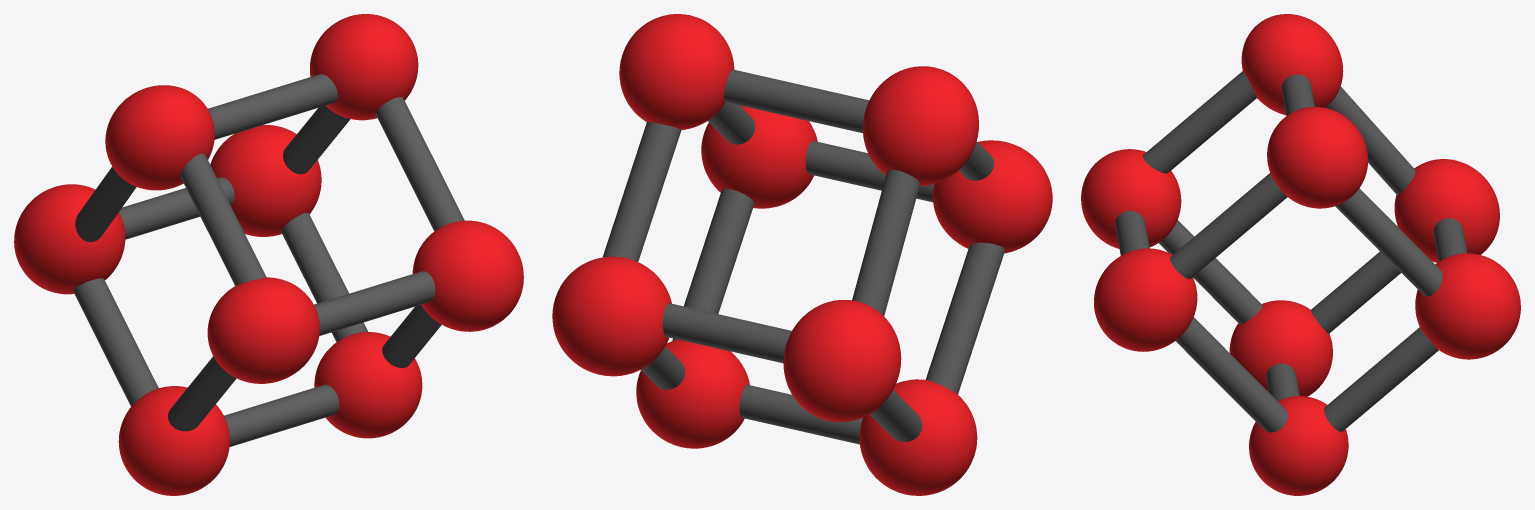
Rendered from SIMPLE.fbx.
The picture shows the model from 3 angles, left to right: view 1: azimuth 30°, elevation 25°; view 2: azimuth 150°, elevation 25°; view 3: azimuth 270°, elevation 25°; orthographic projection. The views are drawn at different scales.
Visible parts, largest first — view 1: node_id395, node_id392, node_id393, node_id391, node_id394, node_id390, node_id388, node_id389, node_id274, node_id276, node_id398, node_id273 (+8 smaller); view 2: node_id390, node_id388, node_id393, node_id394, node_id395, node_id391, node_id389, node_id392, node_id385, node_id397, node_id396, node_id273 (+8 smaller); view 3: node_id388, node_id392, node_id394, node_id390, node_id393, node_id389, node_id395, node_id391, node_id386, node_id274, node_id400, node_id276 (+8 smaller).
Part boxes in pixels (x1,y1,x2,y2): node_id395: [207, 277, 319, 383]; node_id392: [412, 220, 523, 331]; node_id393: [105, 85, 214, 190]; node_id391: [118, 386, 229, 495]; node_id394: [310, 14, 418, 120]; node_id390: [14, 184, 125, 294]; node_id388: [210, 125, 321, 236]; node_id389: [314, 332, 422, 438]; node_id274: [375, 97, 464, 231]; node_id276: [180, 153, 266, 285]; node_id398: [73, 278, 158, 406]; node_id273: [208, 74, 338, 139]; node_id390: [783, 300, 901, 421]; node_id388: [552, 256, 671, 376]; node_id393: [862, 66, 978, 185]; node_id394: [619, 14, 734, 129]; node_id395: [933, 140, 1052, 253]; node_id391: [859, 379, 977, 495]; node_id389: [636, 339, 749, 448]; node_id392: [701, 105, 817, 208]; node_id385: [925, 242, 1004, 394]; node_id397: [603, 122, 681, 261]; node_id396: [852, 170, 920, 316]; node_id273: [723, 69, 869, 133]; node_id388: [1415, 253, 1520, 359]; node_id392: [1094, 248, 1197, 351]; node_id394: [1267, 107, 1368, 208]; node_id390: [1394, 159, 1499, 262]; node_id393: [1241, 14, 1343, 115]; node_id389: [1249, 396, 1348, 495]; node_id395: [1081, 149, 1181, 248]; node_id391: [1229, 300, 1332, 396]; node_id386: [1176, 317, 1287, 432]; node_id274: [1170, 173, 1287, 279]; node_id400: [1324, 327, 1438, 431]; node_id276: [1142, 71, 1256, 173].
Bounding box in the file's own units: 0.3535 × 0.4118 × 0.4283.
Materials: 20 (20 with a texture image).
